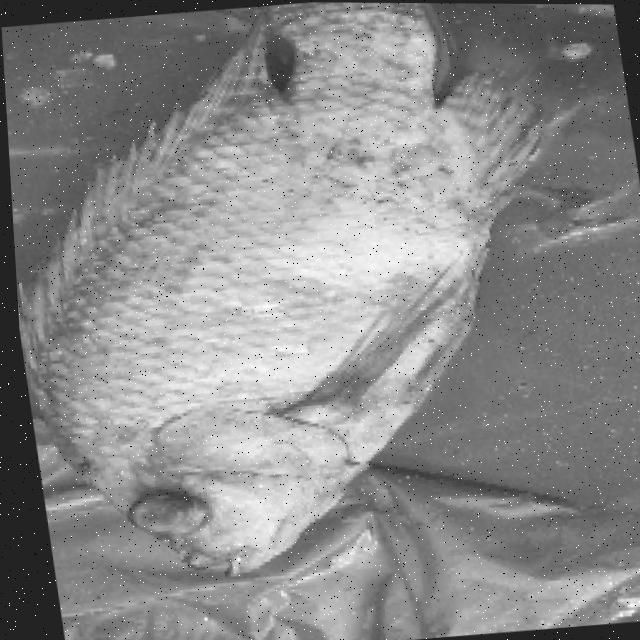Non-Fresh: (0, 0, 570, 605), (106, 452, 235, 560)
